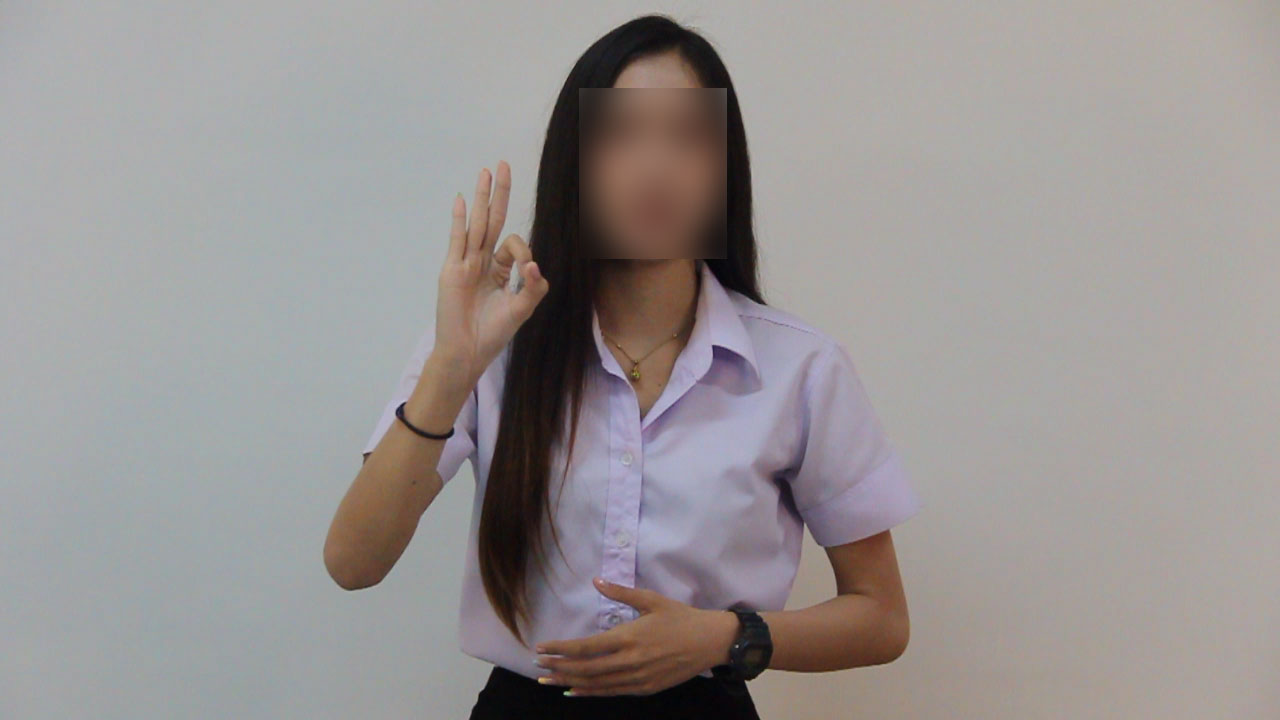for: (408, 151, 568, 376)
